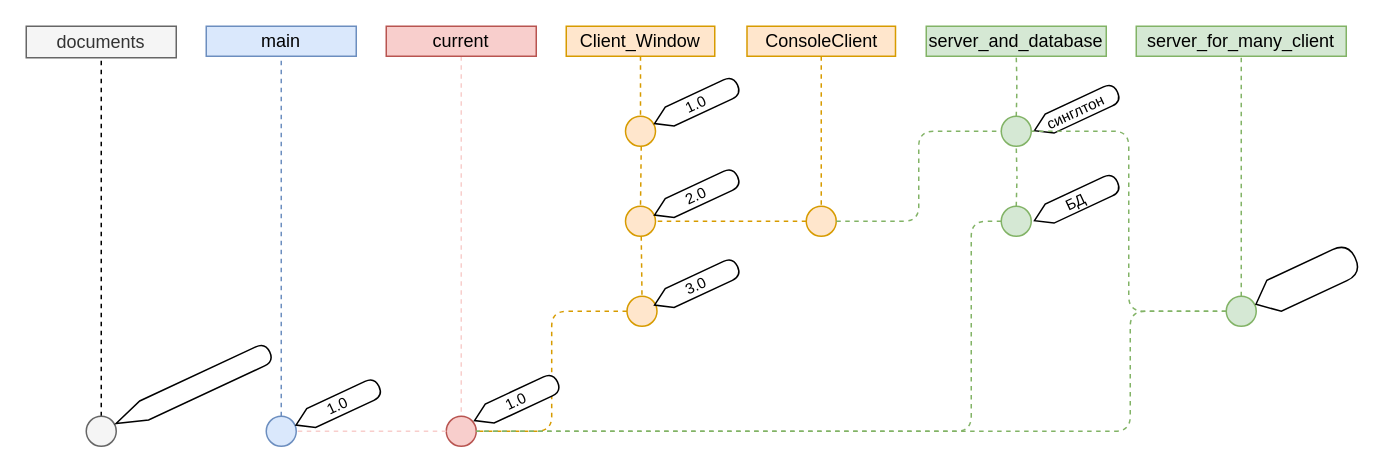
This 1389x473 diagram has some shape labels left out. Here are the shapes that lost their labels. From the top down, the centre of each, then its label:
At (x=1305, y=280): "несколько клиентов".
At (x=192, y=387): "готовые диаграммы".
